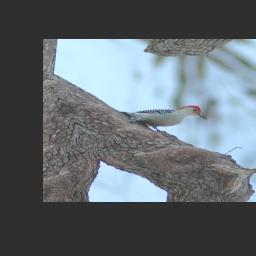Woodpecker: (117, 93, 210, 138)
